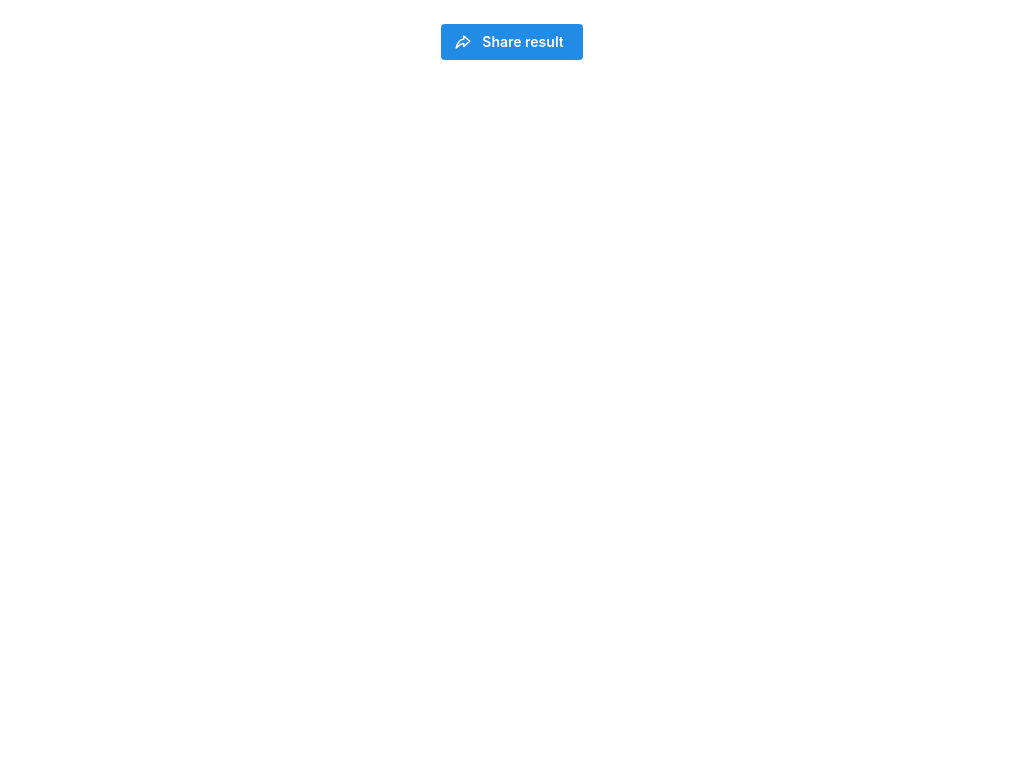
it: <ShareResult /> delivery › shows the copy dialog when the clipboard is unavailable or rejects
Click the button "Share result": (512, 42) [441, 24, 583, 60]
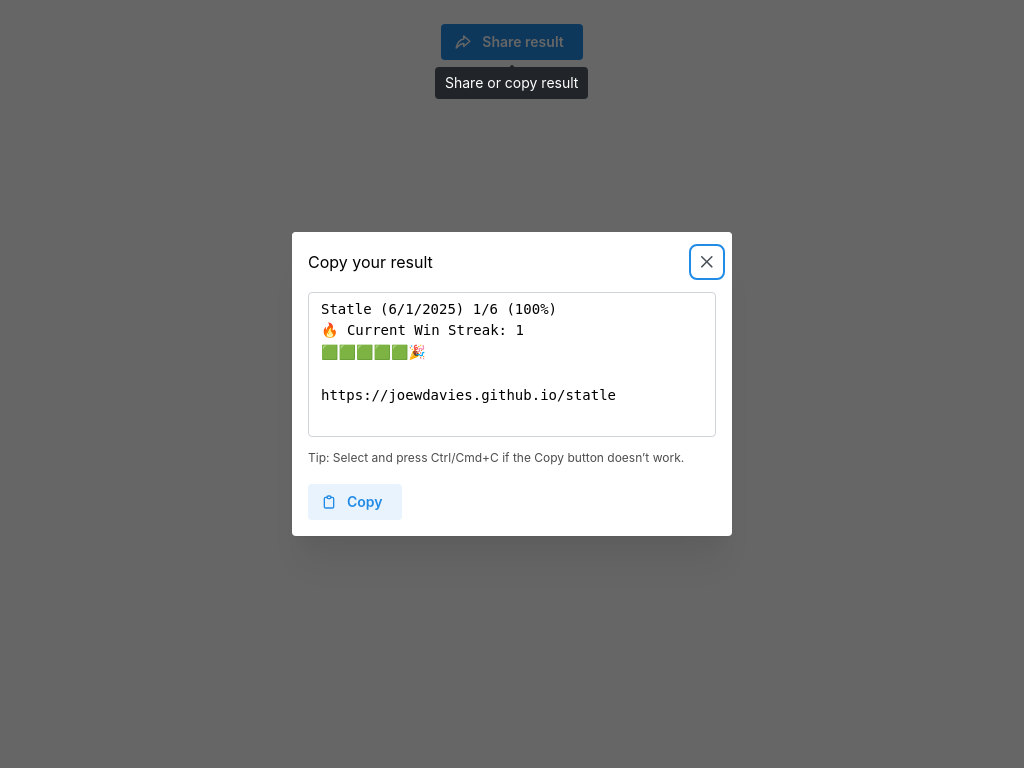
Result: the text box is shown at [308, 292, 716, 437]
Result: the heading "Copy your result" is shown at [308, 254, 433, 270]
